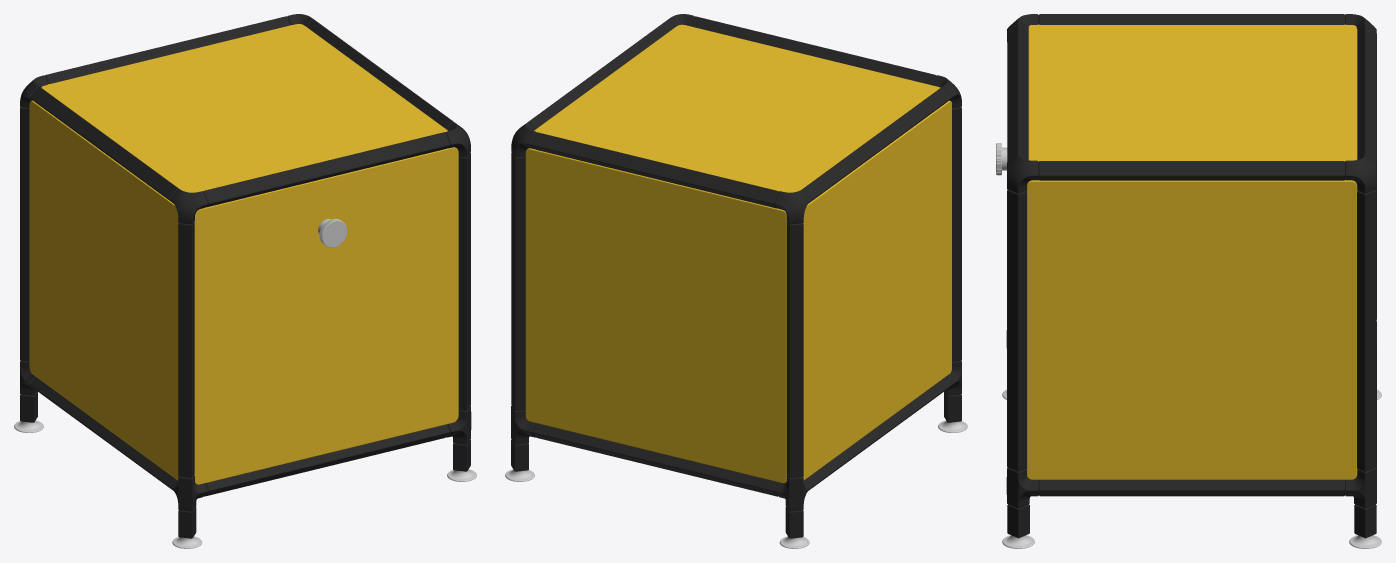
3 renders of one model, left to right at view 1: azimuth 30°, elevation 25°; view 2: azimuth 150°, elevation 25°; view 3: azimuth 270°, elevation 25°, orthographic. The views are drawn at different scales.
Parts seen in each view (by area): view 1: 374x374x374; view 2: 374x374x374; view 3: 374x374x374.
Part boxes in pixels (box(x1,y1,x2,y2)): 374x374x374: box(14, 14, 476, 548); 374x374x374: box(505, 14, 967, 548); 374x374x374: box(996, 14, 1381, 548).
Bounding box in the file's own units: 0.4639 × 0.5133 × 0.4707.
